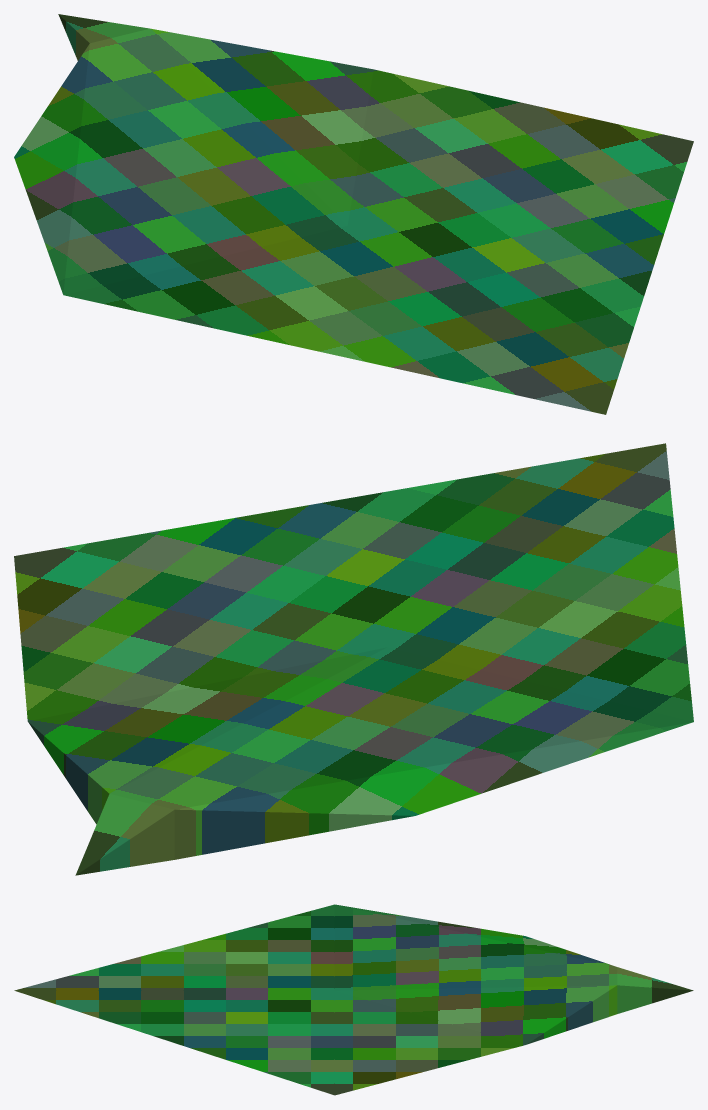
The picture shows the model from 3 angles, top to bottom: view 1: azimuth 30°, elevation 25°; view 2: azimuth 150°, elevation 25°; view 3: azimuth 270°, elevation 25°; orthographic projection. The views are drawn at different scales.
Parts seen in each view (by area): view 1: it403; view 2: it403; view 3: it403.
Boxes of the visible parts, x1=… form: it403: x1=14, y1=14, x2=693, y2=414; it403: x1=14, y1=443, x2=693, y2=875; it403: x1=14, y1=904, x2=693, y2=1095.
Bounding box in the file's own units: 0.4116 × 0.0291 × 0.6191.
1 material, 1 textured.
